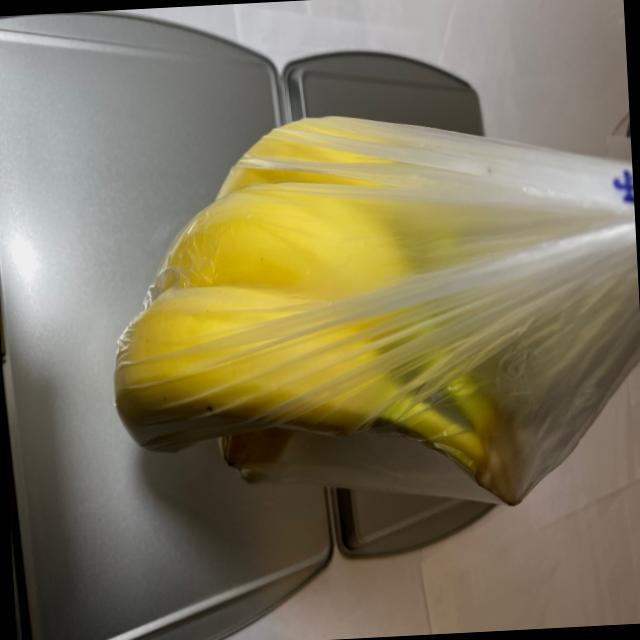banana: (92, 103, 591, 531)
